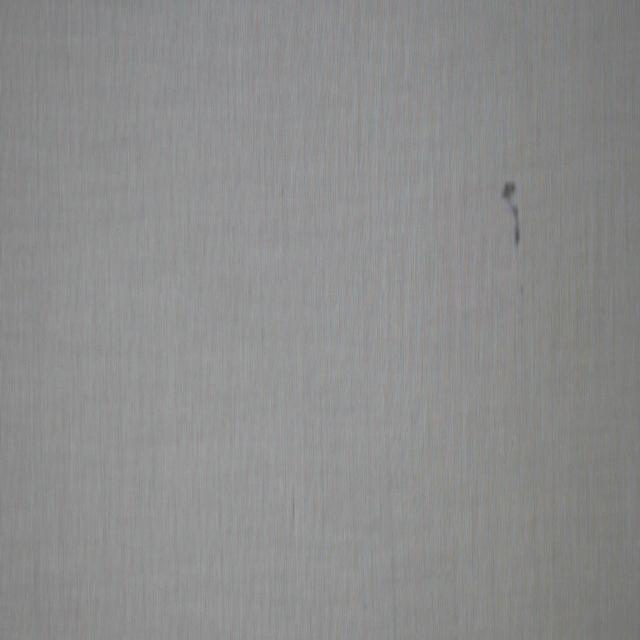dirty: (502, 179, 526, 247)
